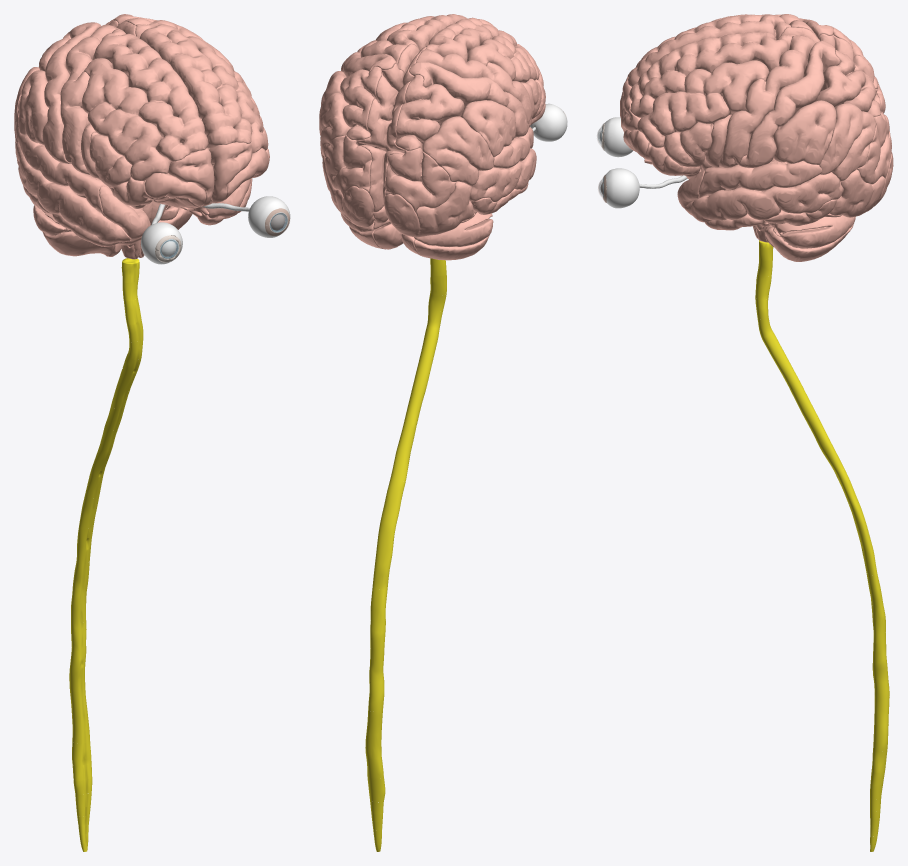
Rendered from female-nervous.glb.
3 views of the same model, side by side, from view 1: azimuth 30°, elevation 25°; view 2: azimuth 150°, elevation 25°; view 3: azimuth 270°, elevation 25° (orthographic). The views are drawn at different scales.
Visible parts, largest first — view 1: Allen_superior_frontal_gyrus_L, Allen_middle_frontal_gyrus_L, Allen_superior_frontal_gyrus_R, Allen_primary_motor_cortex_L, Allen_middle_temporal_gyrus_L, Allen_postcentral_gyrus_L, Allen_superior_temporal_gyrus_L, Allen_middle_frontal_gyrus_R, Allen_supramarginal_gyrus_L, Allen_rostral_gyrus_R, Allen_lateral_hemisphere_of_cerebellum_L, Allen_inferior_frontal_gyrus_triangular_part_L (+11 smaller); view 2: Allen_supraparietal_lobule_L, Allen_angular_gyrus_L, Allen_superior_occipital_gyrus_L, Allen_postcentral_gyrus_L, Allen_lateral_hemisphere_of_cerebellum_L, Allen_superior_occipital_gyrus_R, Allen_primary_motor_cortex_L, Allen_supraparietal_lobule_R, Allen_supramarginal_gyrus_L, Allen_middle_frontal_gyrus_L, Allen_superior_frontal_gyrus_L, Allen_middle_temporal_gyrus_L (+20 smaller); view 3: Allen_middle_frontal_gyrus_R, Allen_superior_frontal_gyrus_R, Allen_middle_temporal_gyrus_R, Allen_primary_motor_cortex_R, Allen_postcentral_gyrus_R, Allen_supramarginal_gyrus_R, Allen_angular_gyrus_R, Allen_superior_temporal_gyrus_R, Allen_lateral_hemisphere_of_cerebellum_R, Allen_superior_frontal_gyrus_L, Allen_supraparietal_lobule_R, Allen_inferior_frontal_gyrus_triangular_part_R (+9 smaller).
Part boxes in pixels (x1,y1,x2,y2): Allen_superior_frontal_gyrus_L: (93, 29, 208, 161); Allen_middle_frontal_gyrus_L: (82, 58, 170, 180); Allen_superior_frontal_gyrus_R: (135, 22, 252, 148); Allen_primary_motor_cortex_L: (60, 24, 116, 175); Allen_middle_temporal_gyrus_L: (15, 142, 130, 243); Allen_postcentral_gyrus_L: (42, 22, 100, 163); Allen_superior_temporal_gyrus_L: (18, 134, 108, 216); Allen_middle_frontal_gyrus_R: (187, 36, 268, 153); Allen_supramarginal_gyrus_L: (18, 70, 48, 144); Allen_rostral_gyrus_R: (209, 141, 252, 203); Allen_lateral_hemisphere_of_cerebellum_L: (33, 205, 114, 256); Allen_inferior_frontal_gyrus_triangular_part_L: (89, 132, 132, 188); Allen_supraparietal_lobule_L: (395, 74, 464, 150); Allen_angular_gyrus_L: (422, 116, 493, 185); Allen_superior_occipital_gyrus_L: (385, 147, 455, 212); Allen_postcentral_gyrus_L: (409, 62, 528, 137); Allen_lateral_hemisphere_of_cerebellum_L: (414, 212, 493, 260); Allen_superior_occipital_gyrus_R: (325, 134, 372, 196); Allen_primary_motor_cortex_L: (416, 49, 532, 127); Allen_supraparietal_lobule_R: (340, 66, 381, 140); Allen_supramarginal_gyrus_L: (461, 100, 515, 157); Allen_middle_frontal_gyrus_L: (467, 35, 543, 85); Allen_superior_frontal_gyrus_L: (426, 17, 521, 61); Allen_middle_temporal_gyrus_L: (469, 148, 536, 201); Allen_middle_frontal_gyrus_R: (637, 60, 769, 147); Allen_superior_frontal_gyrus_R: (629, 32, 791, 117); Allen_middle_temporal_gyrus_R: (684, 172, 843, 222); Allen_primary_motor_cortex_R: (719, 35, 814, 167); Allen_postcentral_gyrus_R: (738, 41, 840, 167); Allen_supramarginal_gyrus_R: (772, 100, 836, 164); Allen_angular_gyrus_R: (819, 103, 876, 181); Allen_superior_temporal_gyrus_R: (698, 161, 822, 197); Allen_lateral_hemisphere_of_cerebellum_R: (760, 215, 855, 261); Allen_superior_frontal_gyrus_L: (627, 14, 791, 86); Allen_supraparietal_lobule_R: (815, 50, 880, 116); Allen_inferior_frontal_gyrus_triangular_part_R: (663, 122, 713, 167).
Bounding box in the file's own units: 0.1364 × 0.5552 × 0.1813.
